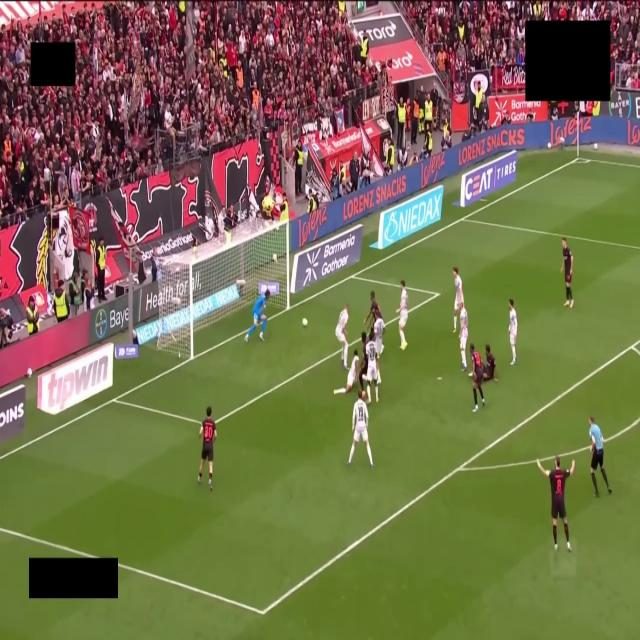ball: (302, 318, 308, 327)
player: (537, 456, 574, 551), (348, 398, 373, 468), (198, 407, 216, 489), (245, 290, 270, 341), (334, 350, 359, 394), (470, 344, 485, 412), (335, 304, 349, 370), (365, 340, 379, 403), (561, 238, 573, 308), (397, 280, 408, 350), (459, 302, 469, 372), (453, 267, 463, 333), (364, 291, 381, 326), (508, 299, 517, 365), (483, 344, 498, 382), (359, 331, 367, 393), (373, 312, 384, 355)
referee: (589, 417, 611, 496)
